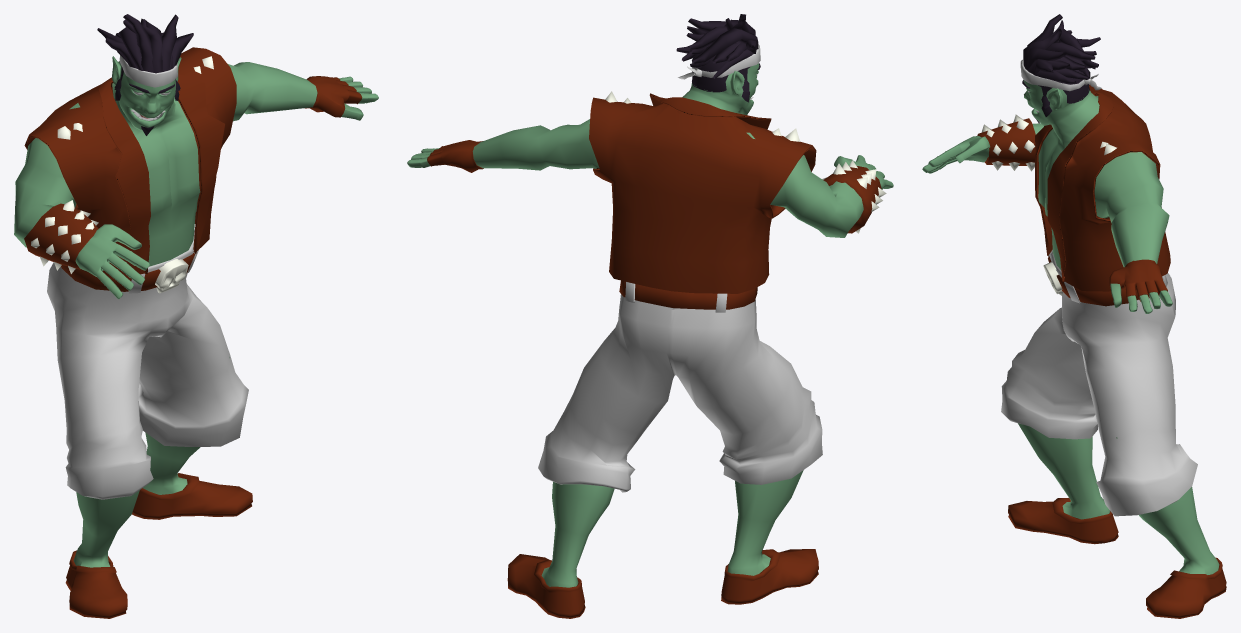
Rendered from Sid_Sketchfab_lp.fbx.
3 views of the same model, side by side, from view 1: azimuth 30°, elevation 25°; view 2: azimuth 150°, elevation 25°; view 3: azimuth 270°, elevation 25° (orthographic). The views are drawn at different scales.
Parts seen in each view (by area): view 1: sid_cloth_mesh, sid_leather_mesh, sid_body_mesh, sid_hair_mesh, sid_boneOrnaments_mesh; view 2: sid_leather_mesh, sid_cloth_mesh, sid_body_mesh, sid_hair_mesh, sid_boneOrnaments_mesh; view 3: sid_cloth_mesh, sid_leather_mesh, sid_body_mesh, sid_hair_mesh, sid_boneOrnaments_mesh.
Part boxes in pixels (x1=…): sid_cloth_mesh: x1=47, y1=55, x2=248, y2=499; sid_leather_mesh: x1=24, y1=47, x2=362, y2=618; sid_body_mesh: x1=14, y1=56, x2=378, y2=567; sid_hair_mesh: x1=97, y1=14, x2=193, y2=135; sid_boneOrnaments_mesh: x1=31, y1=56, x2=213, y2=293; sid_leather_mesh: x1=427, y1=93, x2=881, y2=618; sid_cloth_mesh: x1=538, y1=44, x2=822, y2=492; sid_body_mesh: x1=407, y1=63, x2=893, y2=587; sid_hair_mesh: x1=676, y1=14, x2=760, y2=102; sid_boneOrnaments_mesh: x1=605, y1=91, x2=886, y2=233; sid_cloth_mesh: x1=1001, y1=59, x2=1197, y2=516; sid_leather_mesh: x1=977, y1=84, x2=1226, y2=618; sid_body_mesh: x1=922, y1=80, x2=1219, y2=574; sid_hair_mesh: x1=1022, y1=14, x2=1100, y2=123; sid_boneOrnaments_mesh: x1=981, y1=114, x2=1116, y2=295.
Bounding box in the file's own units: 183 × 247 × 129.
